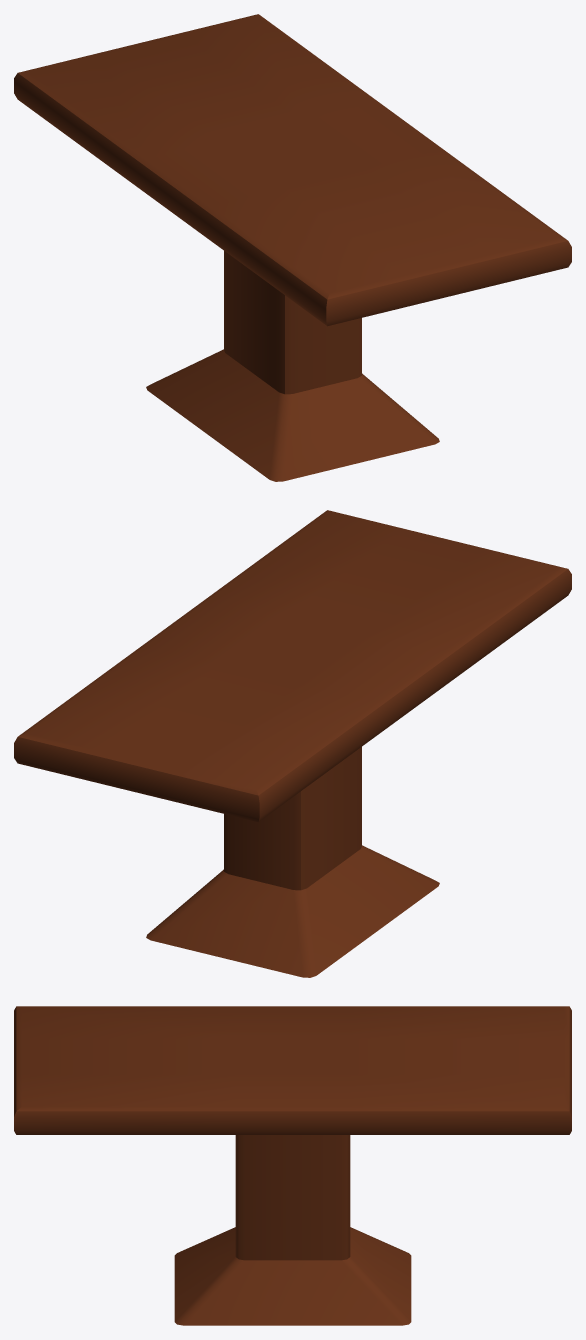
The model's file is Desk.fbx.
The picture shows the model from 3 angles, top to bottom: view 1: azimuth 30°, elevation 25°; view 2: azimuth 150°, elevation 25°; view 3: azimuth 270°, elevation 25°; orthographic projection. The views are drawn at different scales.
Visible parts, largest first — view 1: Cube.001; view 2: Cube.001; view 3: Cube.001.
Part boxes in pixels (x1=…): Cube.001: x1=14, y1=14, x2=571, y2=481; Cube.001: x1=14, y1=510, x2=571, y2=977; Cube.001: x1=14, y1=1006, x2=571, y2=1325.
Bounding box in the file's own units: 310 × 314 × 684.
